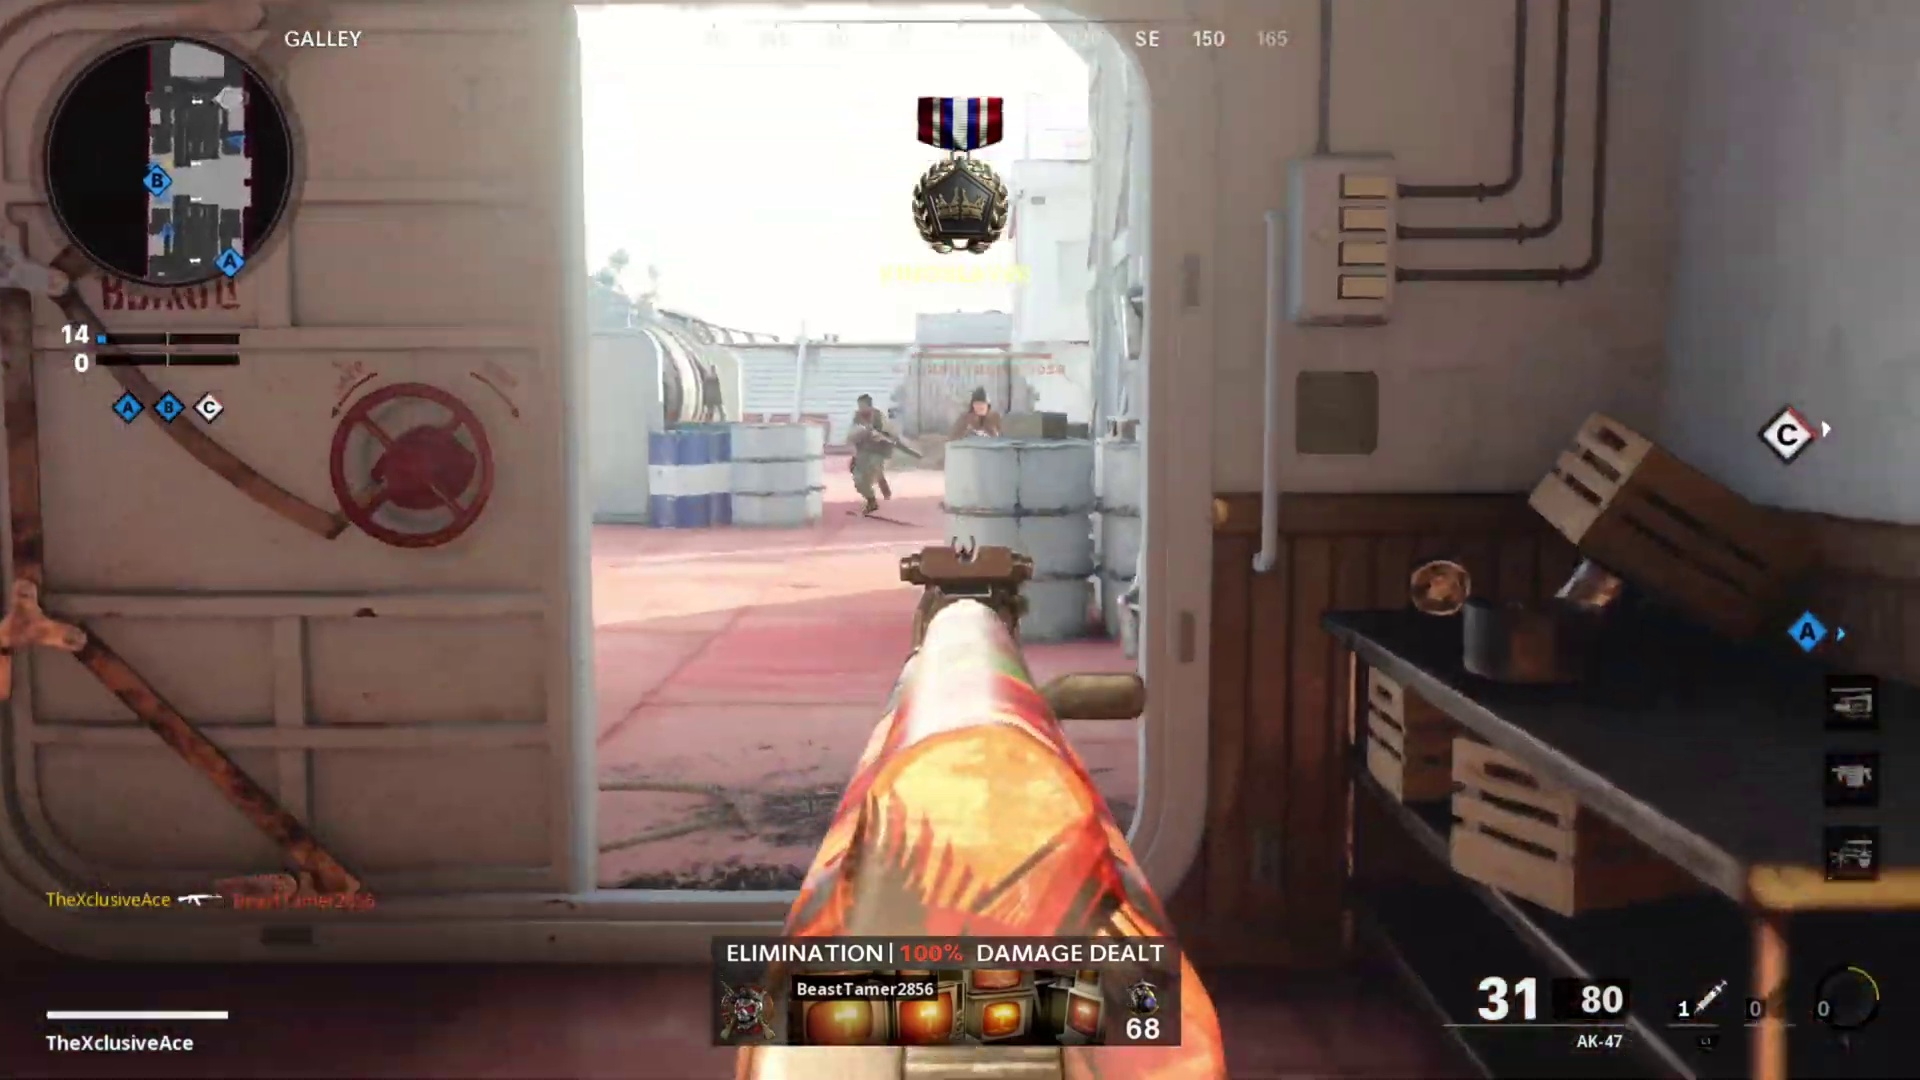head: (963, 385, 988, 420), (852, 390, 880, 421)
person: (843, 392, 909, 509), (947, 387, 1000, 440)
